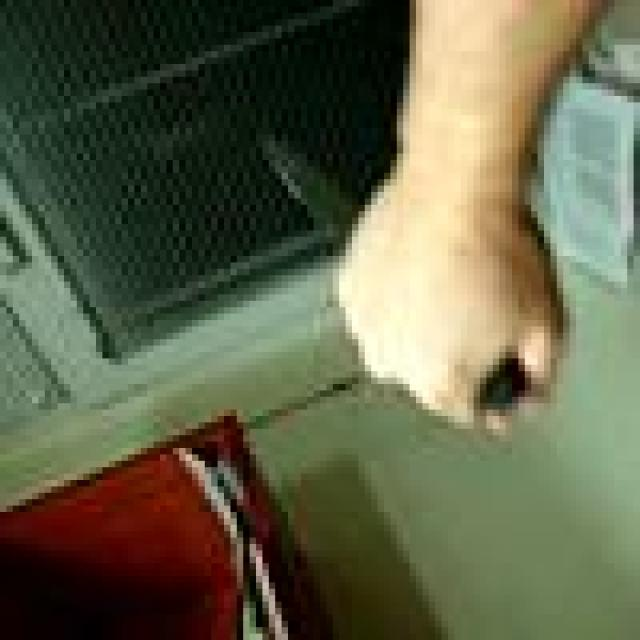knife: (255, 125, 354, 258)
